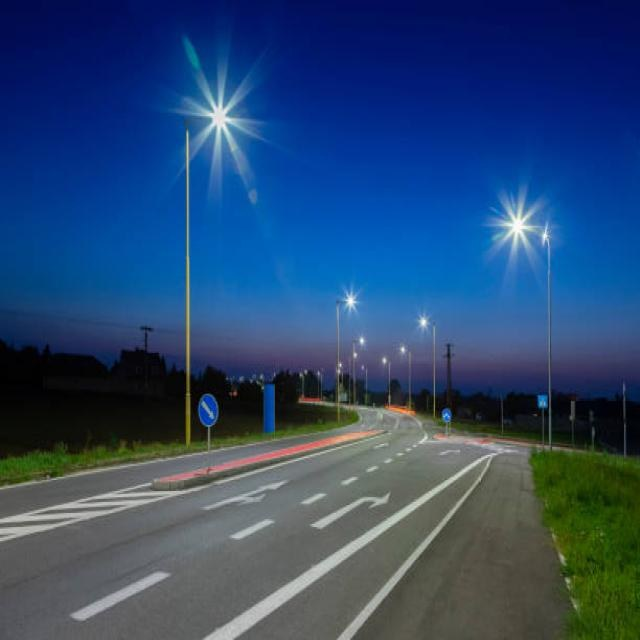acesa: (167, 36, 280, 197), (485, 188, 550, 260), (337, 284, 364, 318), (418, 312, 433, 338)
